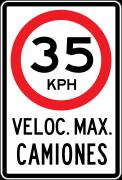Speed Limit -35-: (8, 8, 114, 113)
